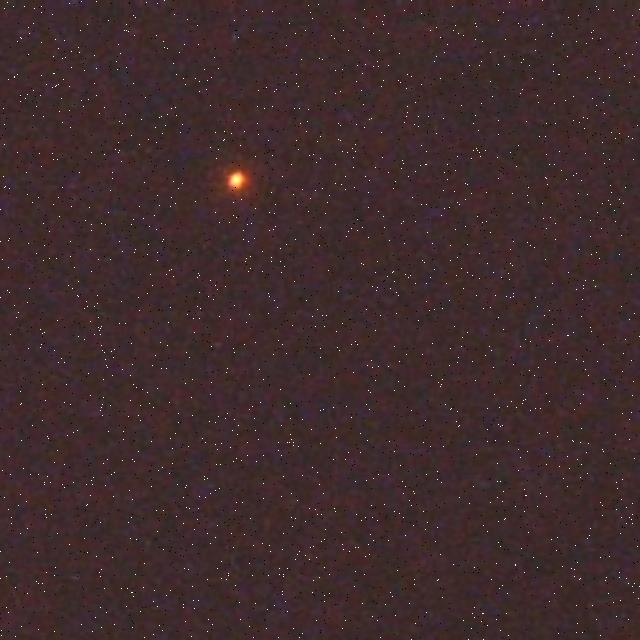microbeads: (220, 168, 254, 198)
